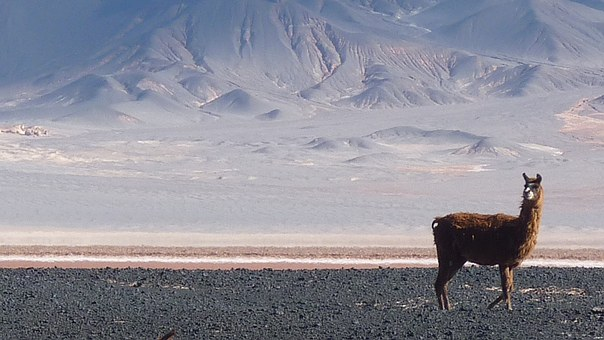alpaca: (431, 172, 544, 312)
